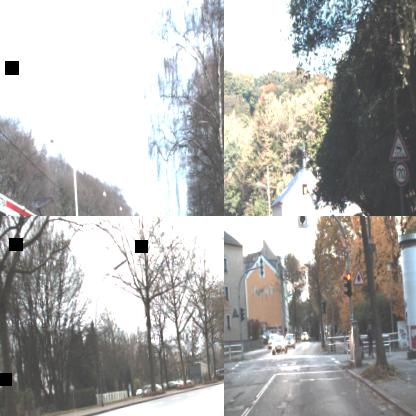priority at next intersection: (350, 264, 366, 287)
slippery road: (387, 127, 410, 160)
speed limit 70: (392, 160, 409, 186)
